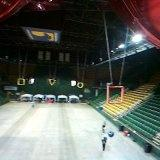Orange_Square_GShape: (106, 85, 124, 105)
Yellow_Circle_GShape: (76, 82, 84, 89)
Yellow_Square_GShape: (17, 78, 26, 86)
Yellow_Triangle_Gshape: (49, 79, 56, 86)
